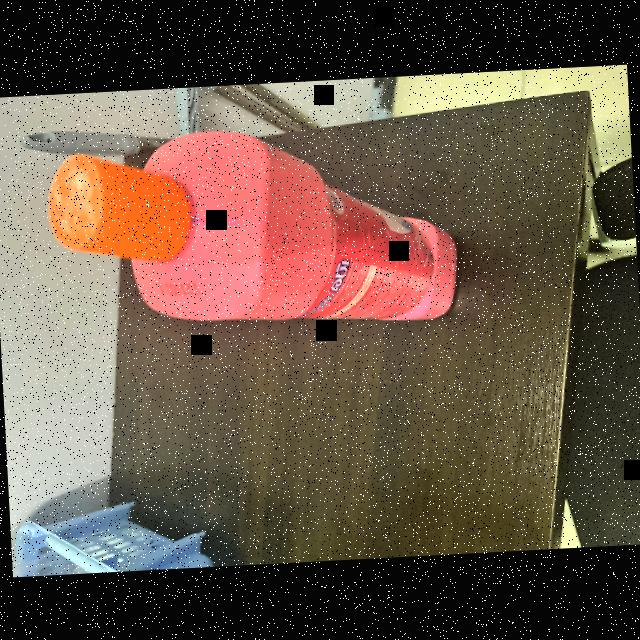chemical_plastic_bottle: (46, 111, 464, 338)
